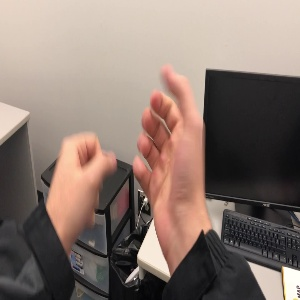hand: (132, 63, 204, 212), (51, 131, 118, 219)
